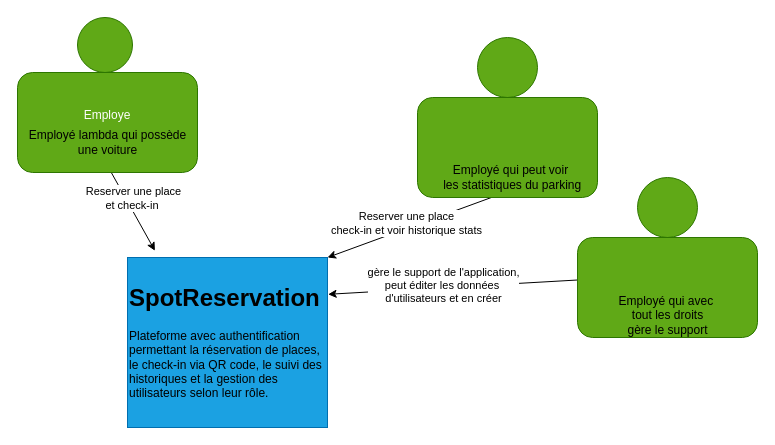
Some shapes in this 775 by 445 pixel diagram are drawn without their labels. The box of each missing label's shape, as (x1, y1, x2, y2) in pixels:
Manager: (416, 96, 598, 198)
Secrétaire: (576, 236, 758, 338)
